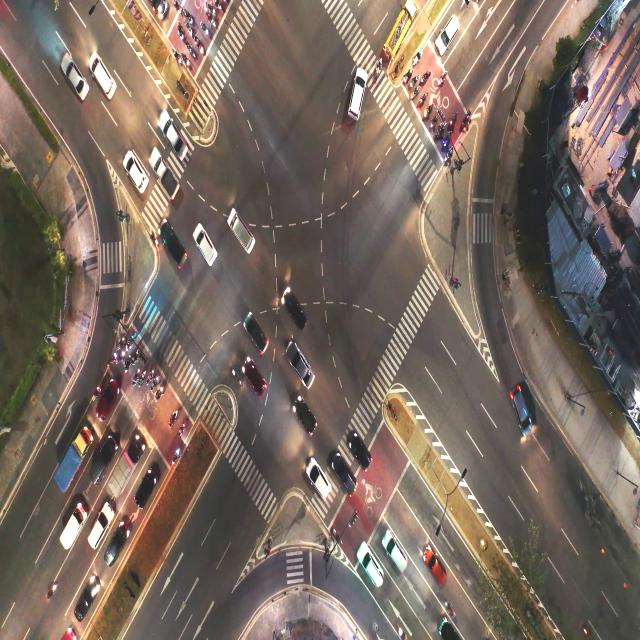bus: (391, 13, 409, 41)
car: (64, 61, 88, 109), (86, 58, 116, 96), (288, 343, 314, 385), (120, 149, 146, 189), (224, 212, 252, 248), (195, 224, 215, 266), (70, 587, 92, 625), (511, 389, 530, 432), (441, 12, 457, 63), (388, 534, 408, 574), (161, 226, 183, 262), (161, 118, 183, 150), (296, 401, 315, 438), (426, 547, 445, 583), (246, 317, 266, 349), (247, 360, 262, 398), (284, 291, 301, 324), (351, 440, 369, 470), (336, 458, 354, 488), (350, 71, 362, 115), (362, 556, 380, 584), (312, 464, 327, 497), (91, 519, 108, 545), (100, 392, 115, 418), (142, 476, 156, 500), (108, 537, 124, 558), (95, 454, 107, 478)
motorcycle: (229, 364, 239, 382), (374, 54, 381, 75), (461, 114, 470, 130), (215, 1, 225, 13), (172, 50, 180, 64), (176, 25, 184, 39), (202, 24, 210, 38), (422, 70, 429, 85), (147, 370, 154, 384), (448, 116, 456, 128), (156, 389, 164, 401), (149, 231, 157, 243), (182, 56, 190, 68), (334, 530, 341, 543), (195, 38, 202, 51), (174, 449, 180, 464), (133, 351, 139, 366), (186, 23, 192, 38), (414, 52, 420, 66), (440, 74, 446, 87), (186, 11, 192, 24), (173, 0, 179, 13), (209, 17, 216, 28), (420, 94, 426, 106), (171, 414, 177, 426), (188, 46, 194, 58), (431, 116, 438, 126), (128, 338, 133, 352), (208, 4, 215, 14), (119, 334, 123, 350), (446, 152, 452, 162), (444, 136, 450, 146), (438, 126, 444, 136), (152, 378, 157, 390), (110, 352, 114, 366), (140, 370, 143, 388), (120, 349, 124, 362), (425, 109, 431, 117), (412, 74, 416, 86), (180, 425, 185, 434), (126, 357, 129, 372), (414, 88, 418, 98), (134, 371, 137, 382), (406, 72, 410, 80), (94, 390, 98, 398)
truck: (155, 162, 177, 200), (65, 444, 79, 476), (65, 516, 82, 540), (114, 459, 128, 488)
